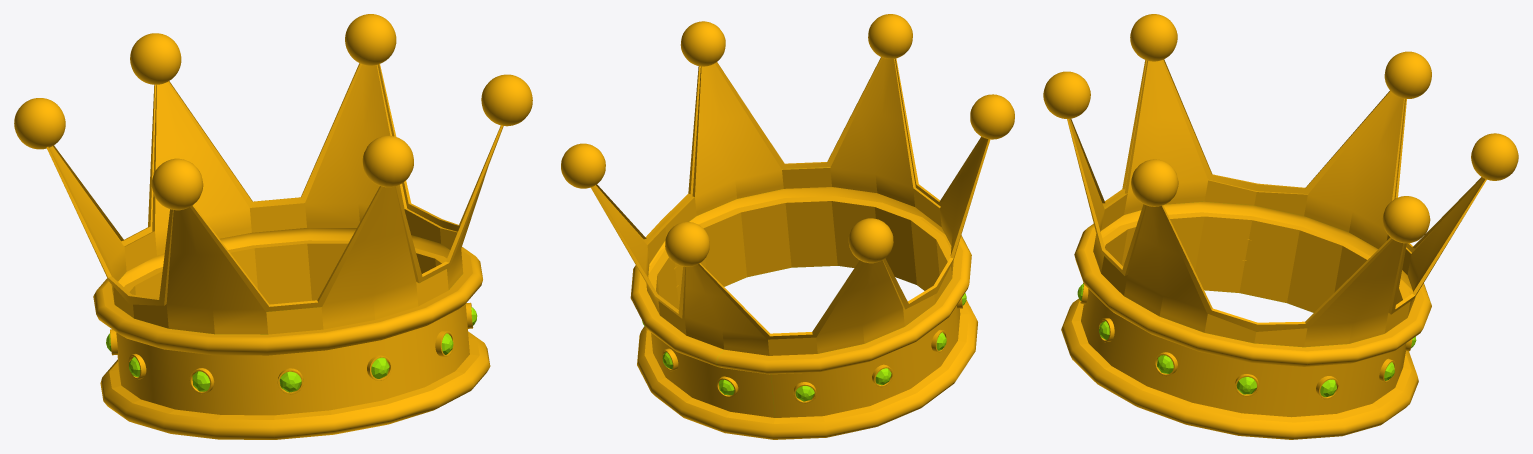
Rendered from Crown_Girl.fbx.
3 views of the same model, side by side, from view 1: azimuth 30°, elevation 25°; view 2: azimuth 150°, elevation 25°; view 3: azimuth 270°, elevation 25° (orthographic). The views are drawn at different scales.
Visible parts, largest first — view 1: Crown; view 2: Crown; view 3: Crown.
Boxes of the visible parts, <box> form: Crown: <box>14,14,532,439</box>; Crown: <box>561,14,1014,439</box>; Crown: <box>1043,14,1518,439</box>.
Size of the model in its own units: 57.87 by 50.22 by 68.97.
